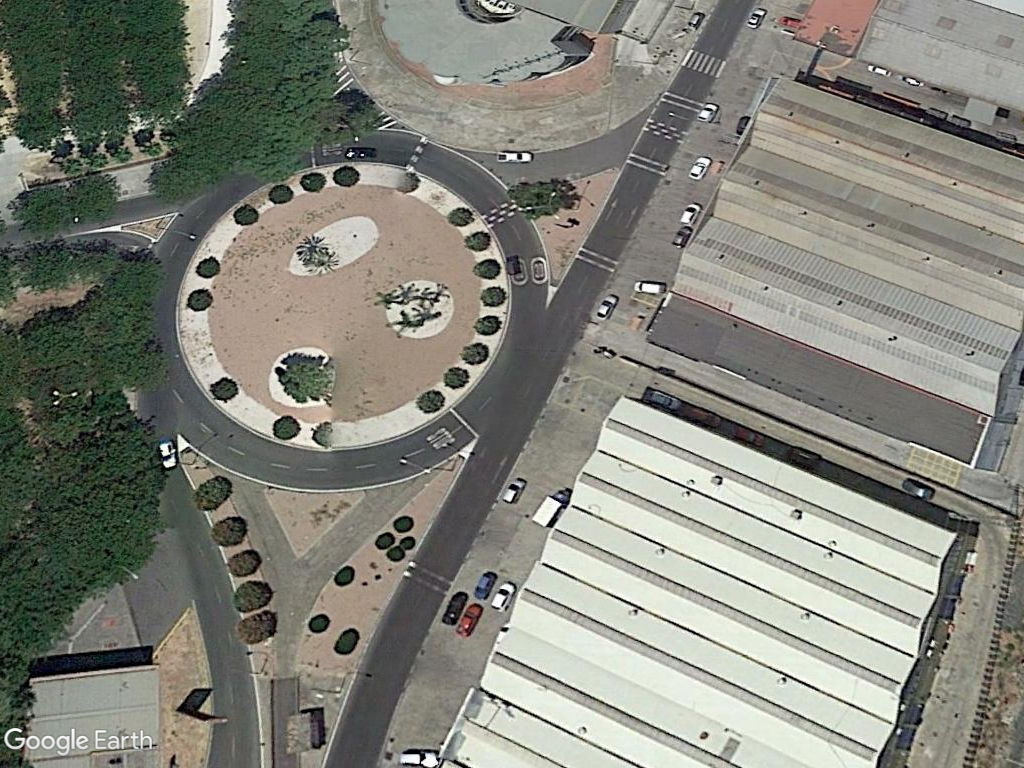car: (591, 290, 621, 326), (486, 146, 538, 165)
van: (153, 432, 182, 477), (628, 275, 670, 299)
